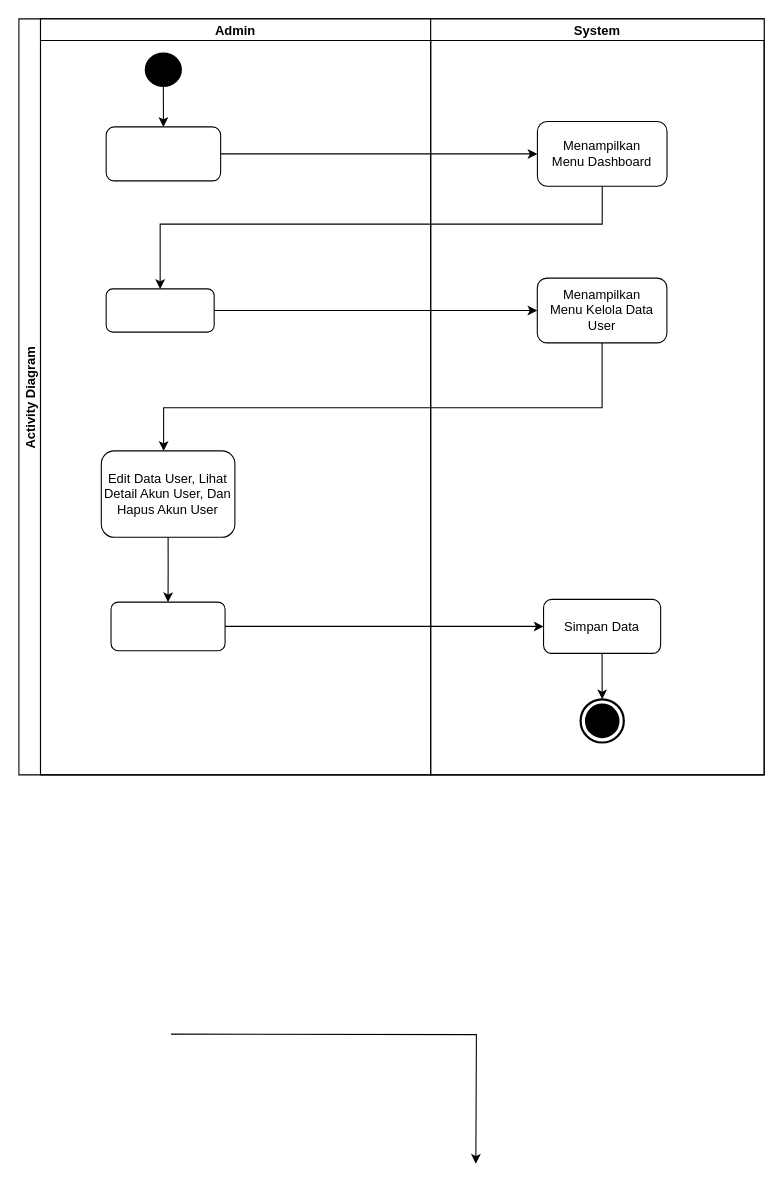
Some shapes in this 784 by 1191 pixel diagram are drawn without their labels. Here are the shapes that lost their labels. From the top down, the centre of each, then its label:
(x=163, y=153): Membuka Website
(x=159, y=310): Memilih Menu Kelola User
(x=167, y=626): Klik Tombol Simpan
